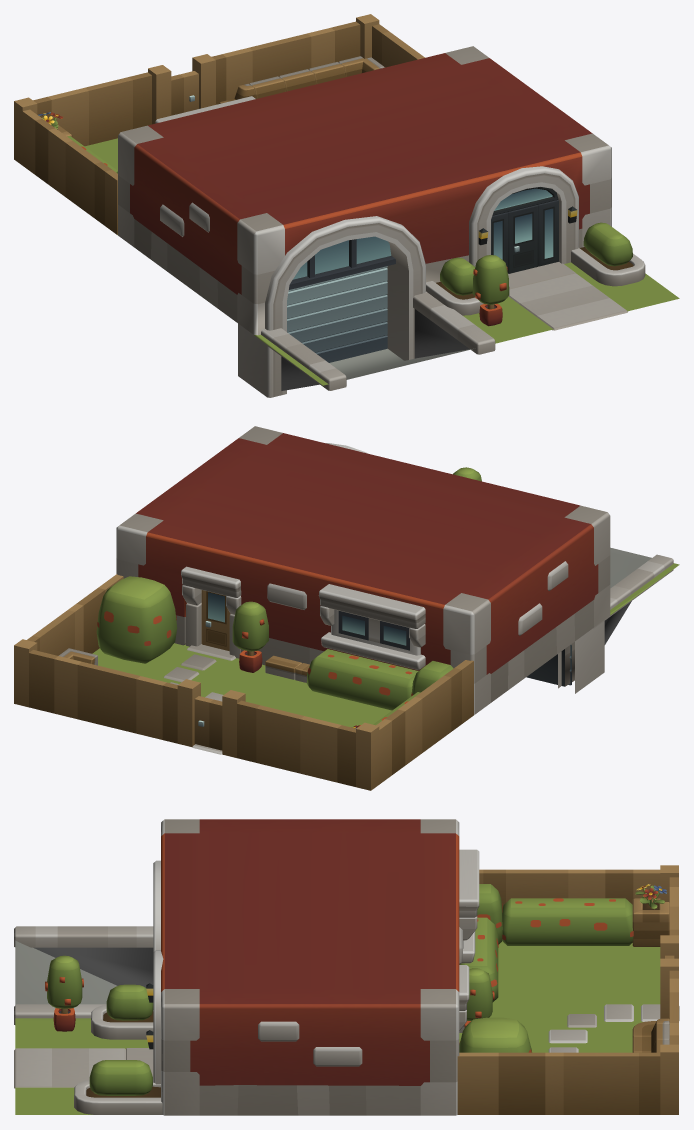
Rendered from garage_and_house_ground_red.fbx.
3 renders of one model, top to bottom at view 1: azimuth 30°, elevation 25°; view 2: azimuth 150°, elevation 25°; view 3: azimuth 270°, elevation 25°, orthographic. The views are drawn at different scales.
Visible parts, largest first — view 1: garage_and_house_ground_red, door_garage_garage_and_house, door_front_garage_and_house, door_garden_garage_and_house; view 2: garage_and_house_ground_red, door_back_garage_and_house, door_garden_garage_and_house; view 3: garage_and_house_ground_red.
Boxes of the visible parts, bbox=[...] form: garage_and_house_ground_red: bbox=[14, 14, 679, 397]; door_garage_garage_and_house: bbox=[287, 266, 387, 362]; door_front_garage_and_house: bbox=[508, 205, 537, 273]; door_garden_garage_and_house: bbox=[171, 71, 198, 115]; garage_and_house_ground_red: bbox=[14, 426, 679, 790]; door_back_garage_and_house: bbox=[201, 590, 230, 651]; door_garden_garage_and_house: bbox=[194, 696, 222, 750]; garage_and_house_ground_red: bbox=[14, 819, 679, 1115].
Size of the model in its own units: 1223 by 533 by 1806.
